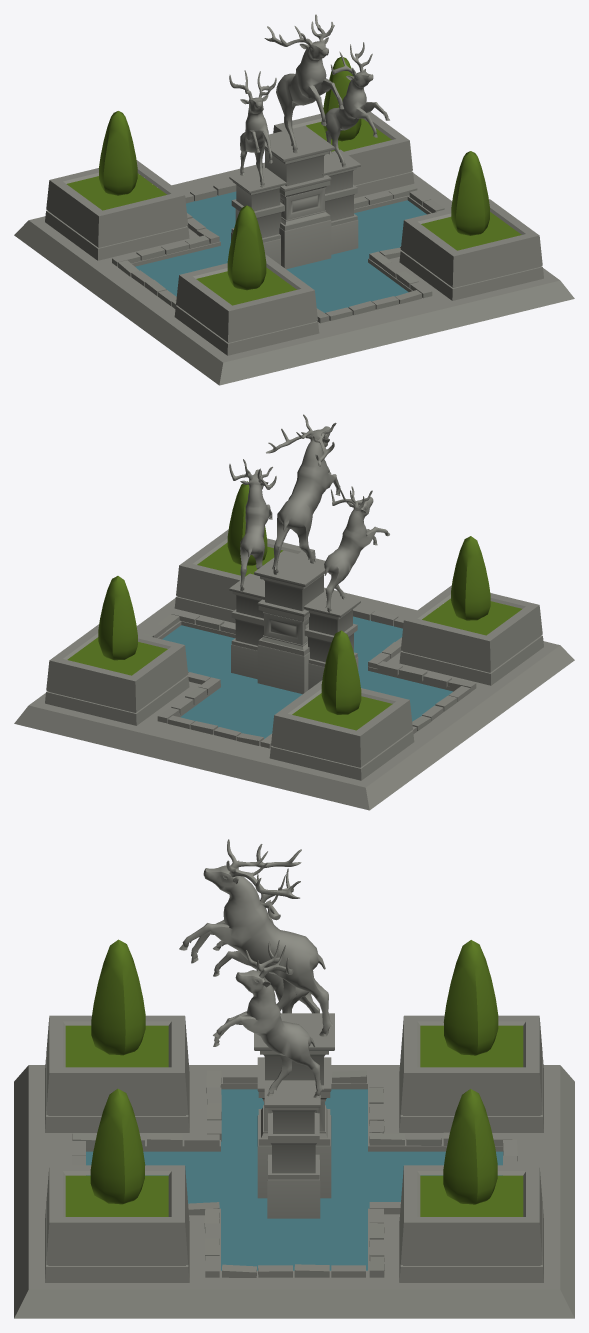
The model's file is town-center-2nd-age.glb.
3 renders of one model, top to bottom at view 1: azimuth 30°, elevation 25°; view 2: azimuth 150°, elevation 25°; view 3: azimuth 270°, elevation 25°, orthographic. The views are drawn at different scales.
Parts seen in each view (by area): view 1: TownCenter_SecondAge_Level3; view 2: TownCenter_SecondAge_Level3; view 3: TownCenter_SecondAge_Level3.
Boxes of the visible parts, bbox=[...] form: TownCenter_SecondAge_Level3: bbox=[14, 14, 574, 385]; TownCenter_SecondAge_Level3: bbox=[14, 414, 574, 810]; TownCenter_SecondAge_Level3: bbox=[14, 839, 574, 1318].
Size of the model in its own units: 1.86 by 1.28 by 1.86.
